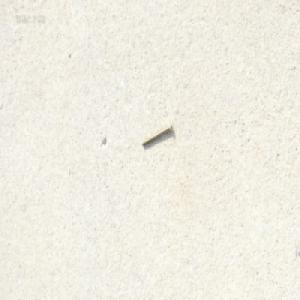Bolt: (141, 120, 172, 147)
